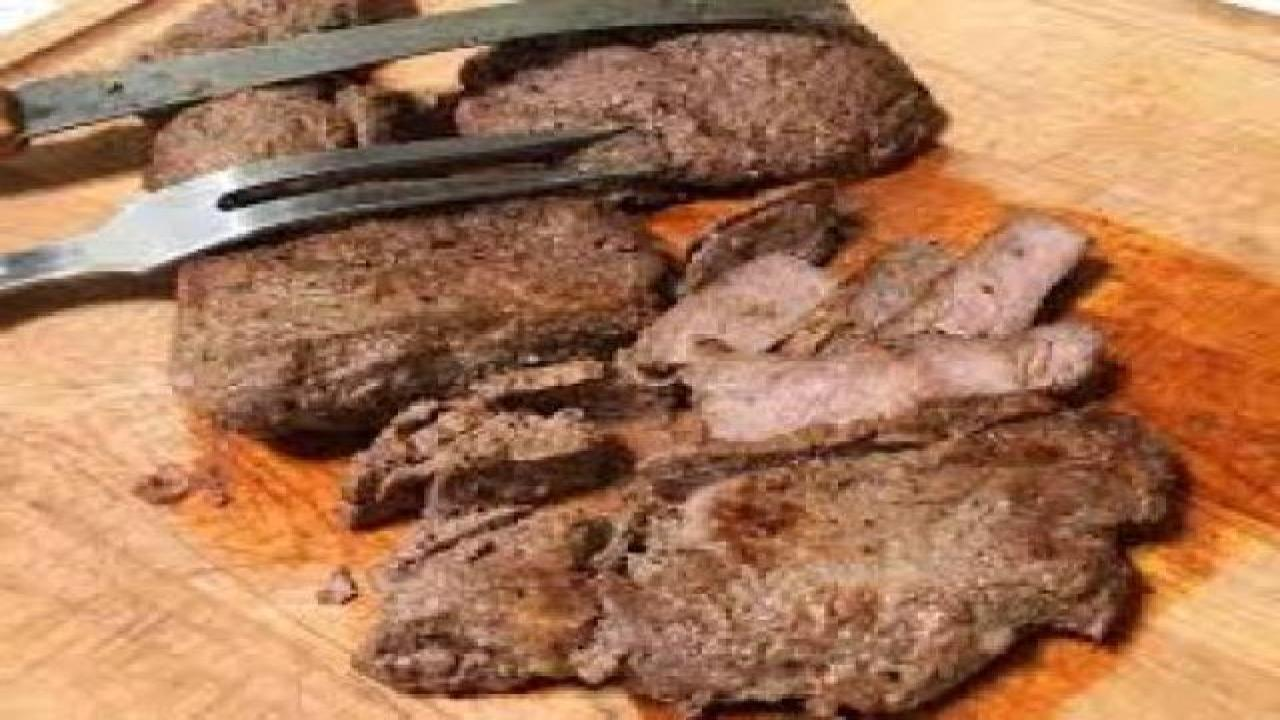Carne: (166, 105, 652, 479), (616, 447, 1208, 693), (694, 201, 1140, 427), (475, 15, 1043, 187), (381, 505, 609, 690)
